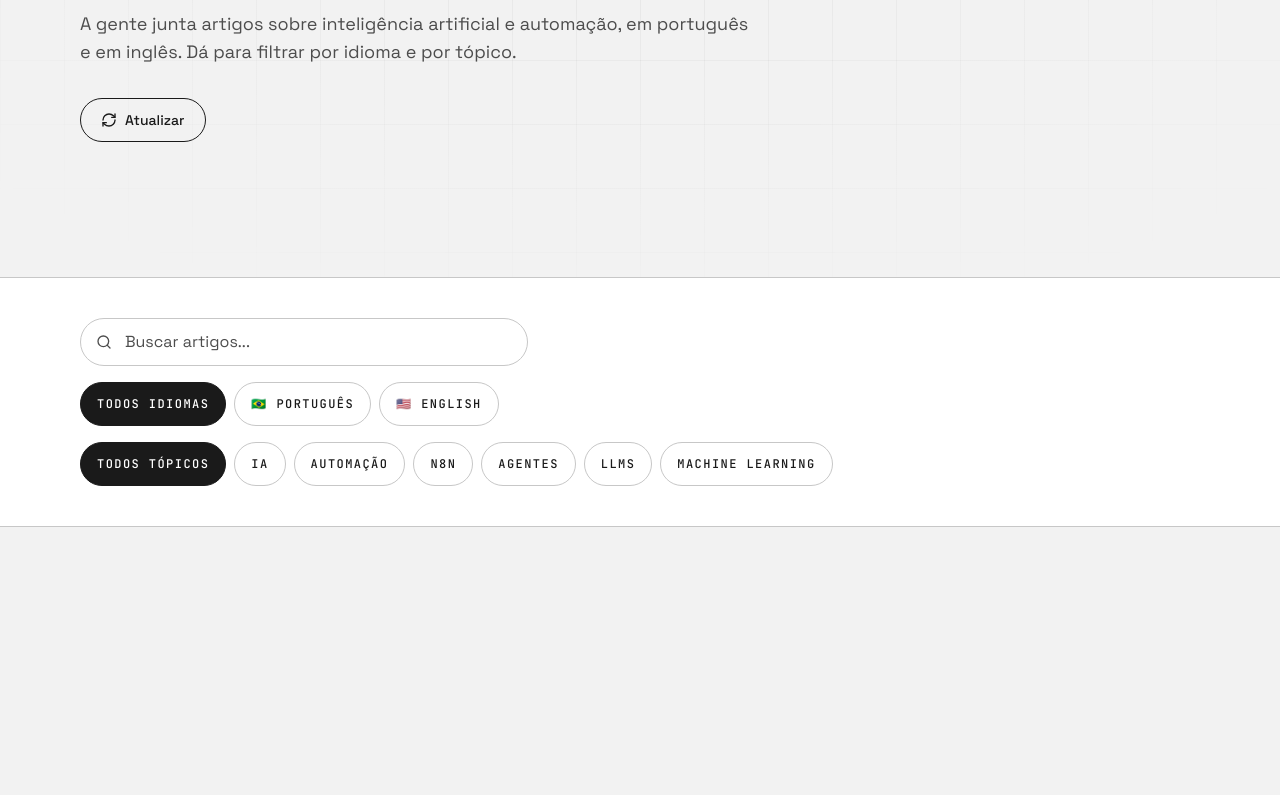
it: BlogPage search and filters › exposes which language and which topic is selected with aria-pressed
(page scrolled)
Step 1. Click the button "🇺🇸 English" → (439, 404), box left=379, top=382, right=499, bottom=426
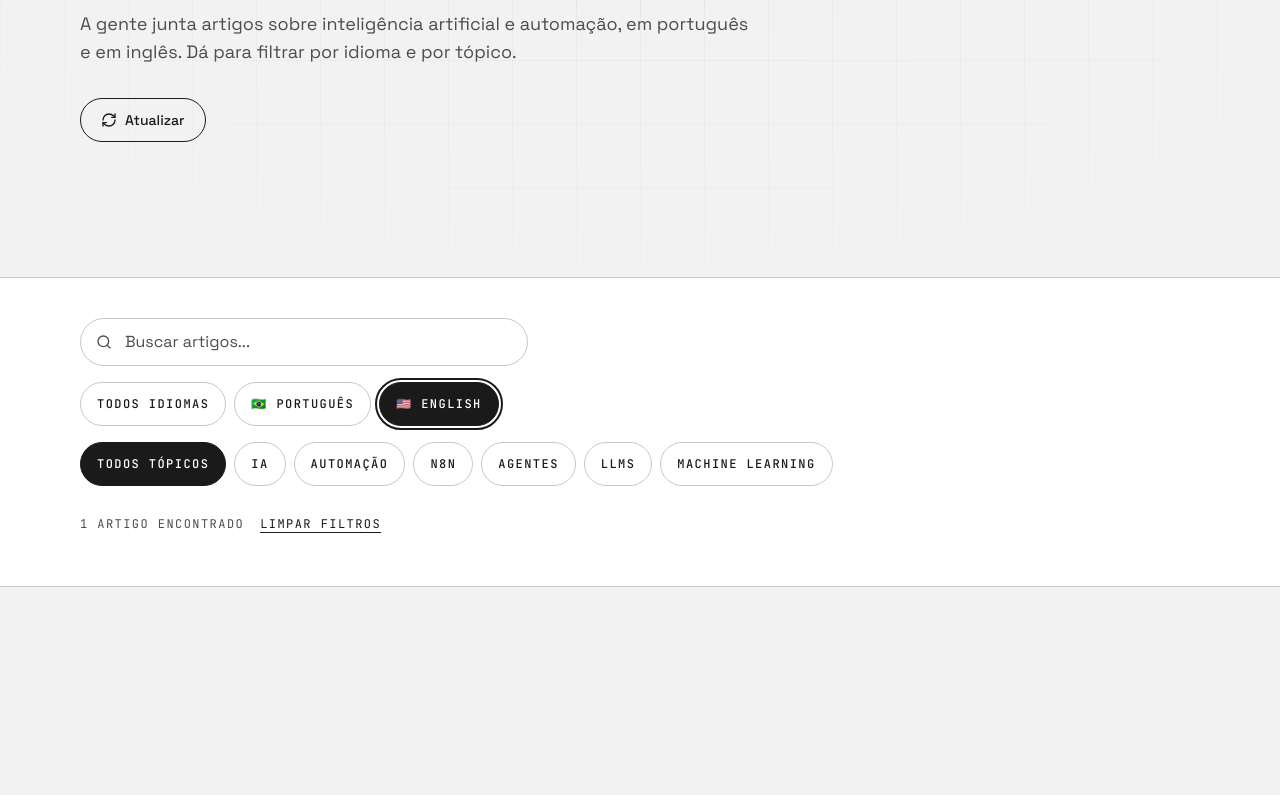
Step 2. Click the button "N8N" → (443, 464), box left=413, top=442, right=473, bottom=486
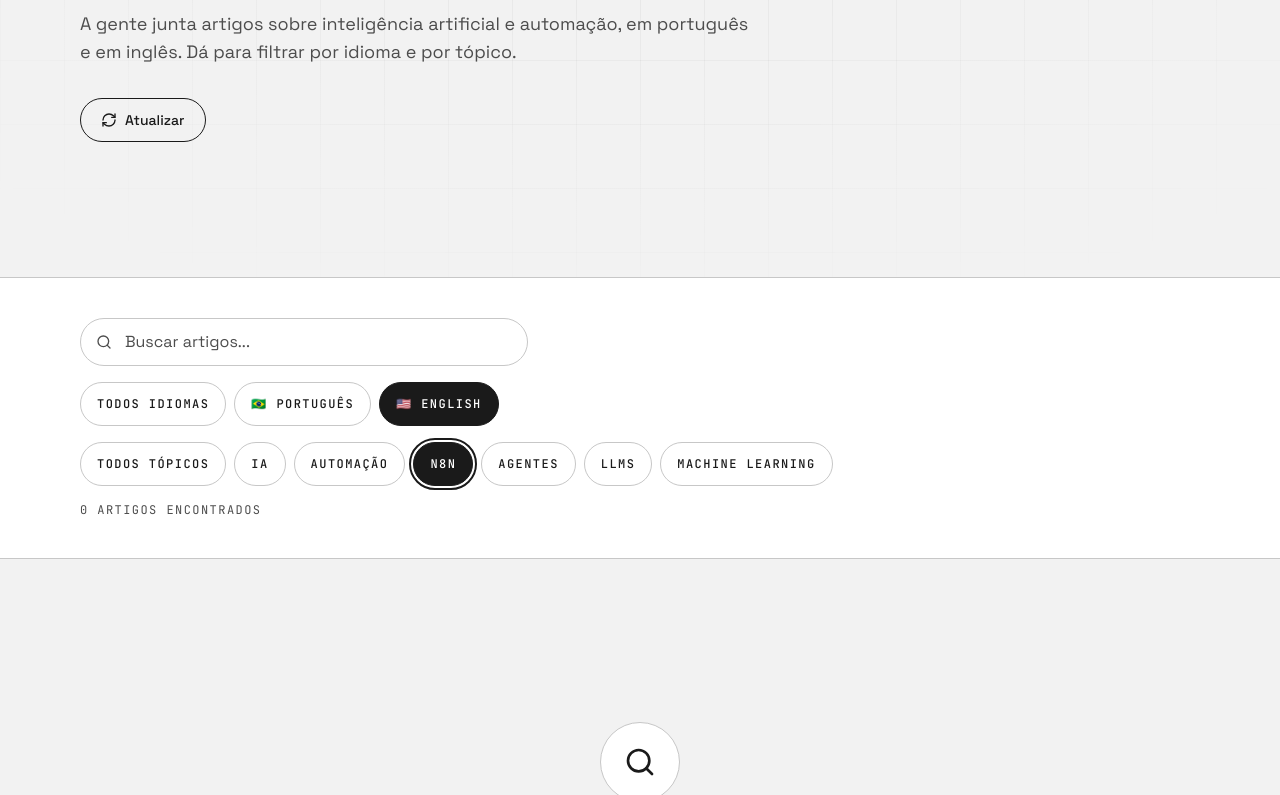
Expected: the button "🇺🇸 English" is pressed, left=379, top=382, right=499, bottom=426
Expected: the button "Todos idiomas" is not pressed, left=80, top=382, right=226, bottom=426
Expected: the button "N8N" is pressed, left=413, top=442, right=473, bottom=486
